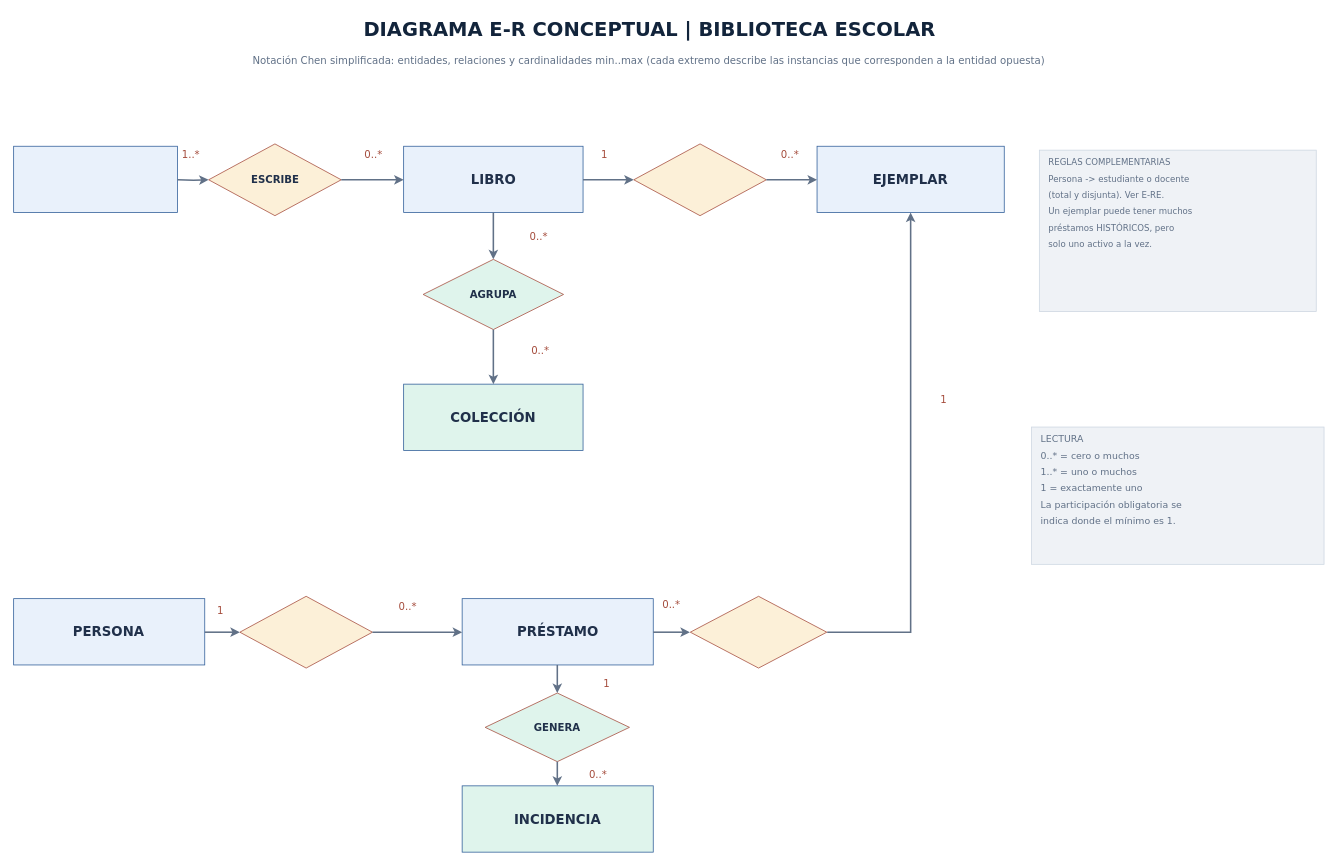
This 1338x867 diagram has some shape labels left out. Here are the shapes that lost their labels. From the top down, the centre of each, then its label:
the point at 95,179: AUTOR
the point at 699,179: TIENE
the point at 305,632: REALIZA
the point at 758,632: SOBRE
